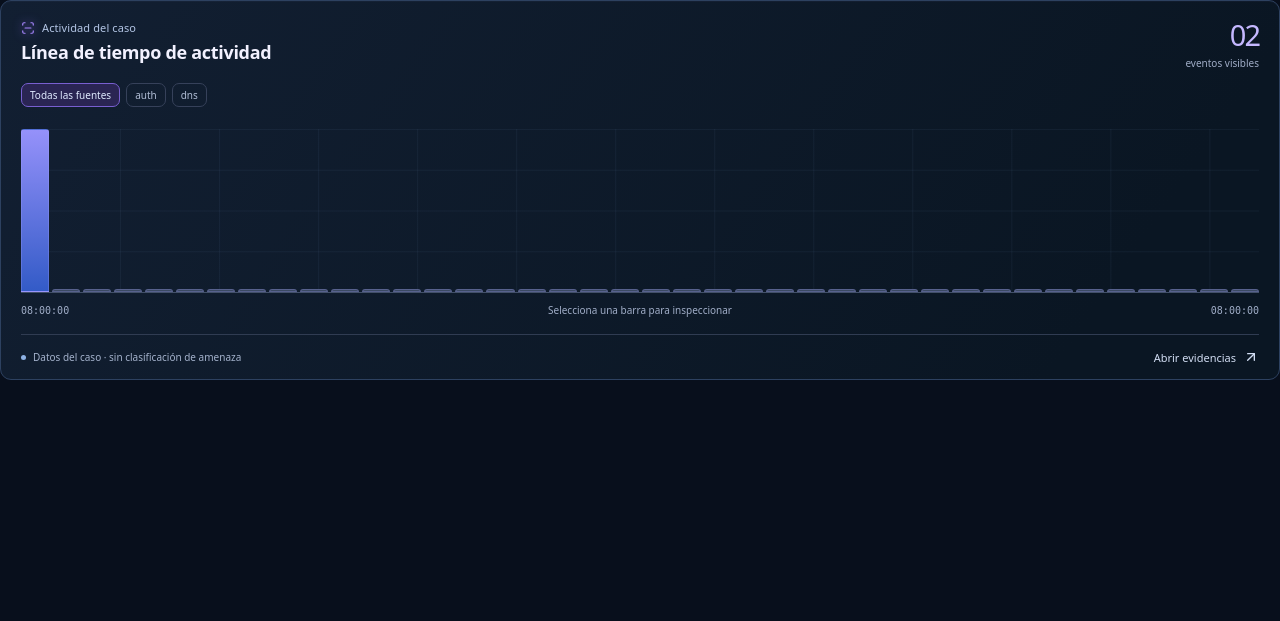
Scenario: SignalMap › groups simultaneous events and clears selection when filtering by source
Click the button named ": 2 eventos". click: (35, 210)
box: x1=21 y1=129 x2=49 y2=292
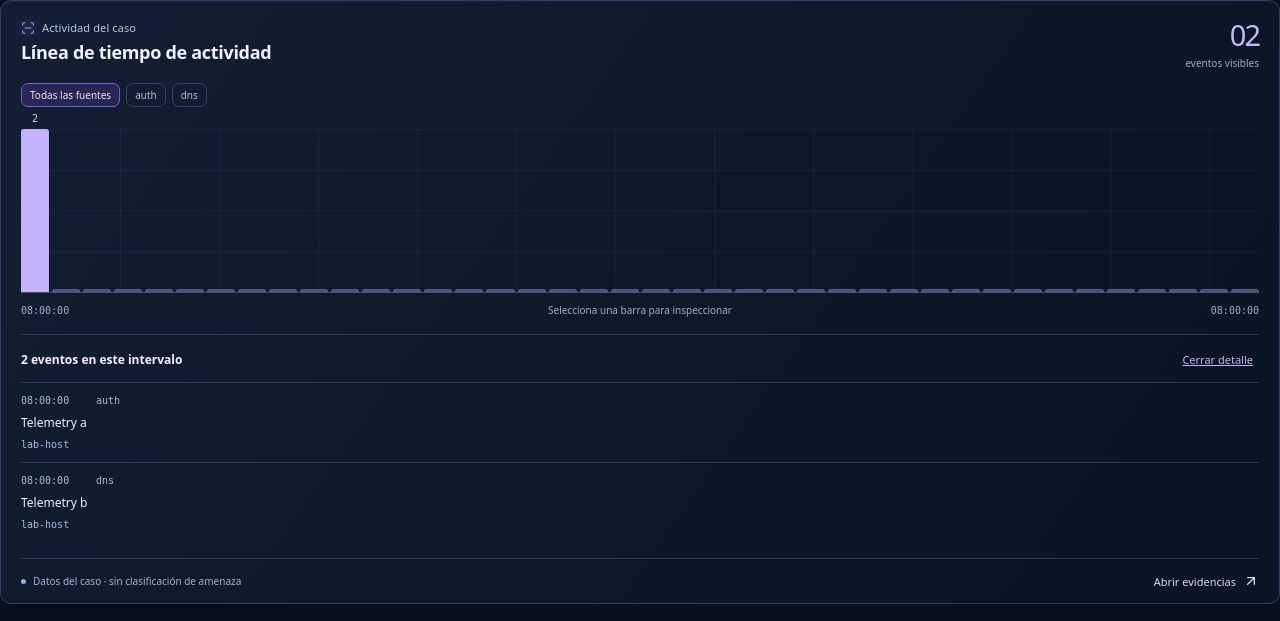
Result: the text "Telemetry a" is shown at x1=21 y1=414 x2=87 y2=431
Result: the text "Telemetry b" is shown at x1=21 y1=494 x2=87 y2=511
Click the button "dns". click: (189, 95)
box: x1=172 y1=83 x2=207 y2=107
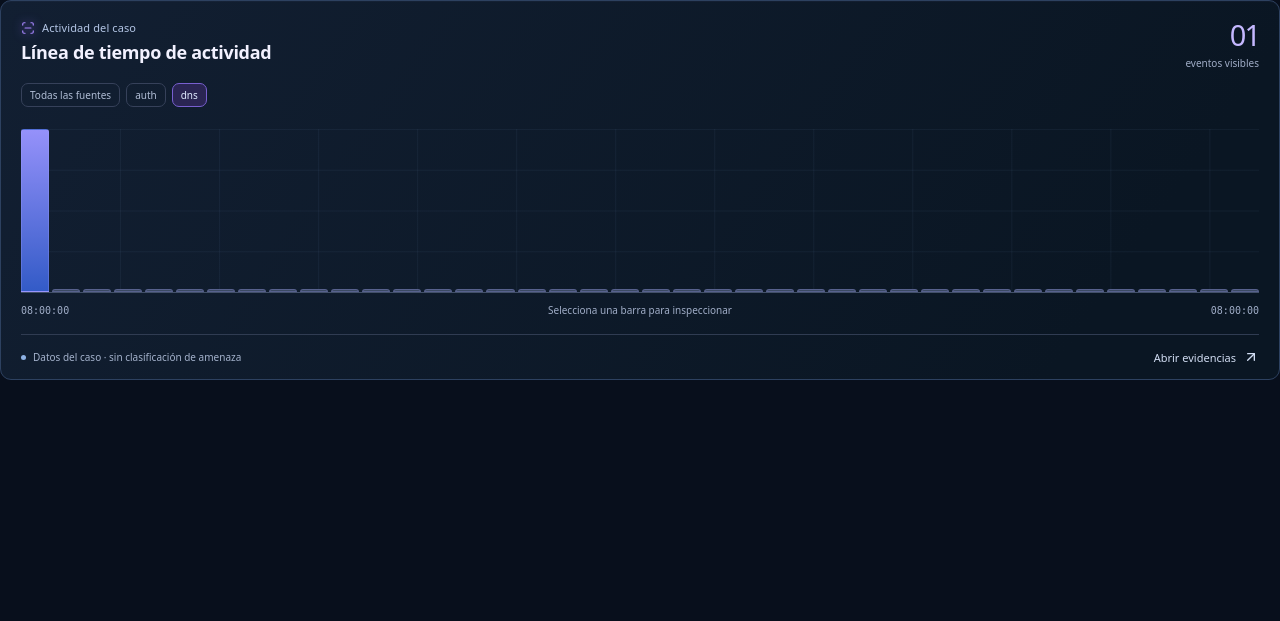
Result: the text "Telemetry a" is gone
Click the button named ": 1 evento". click: (35, 210)
box: x1=21 y1=129 x2=49 y2=292
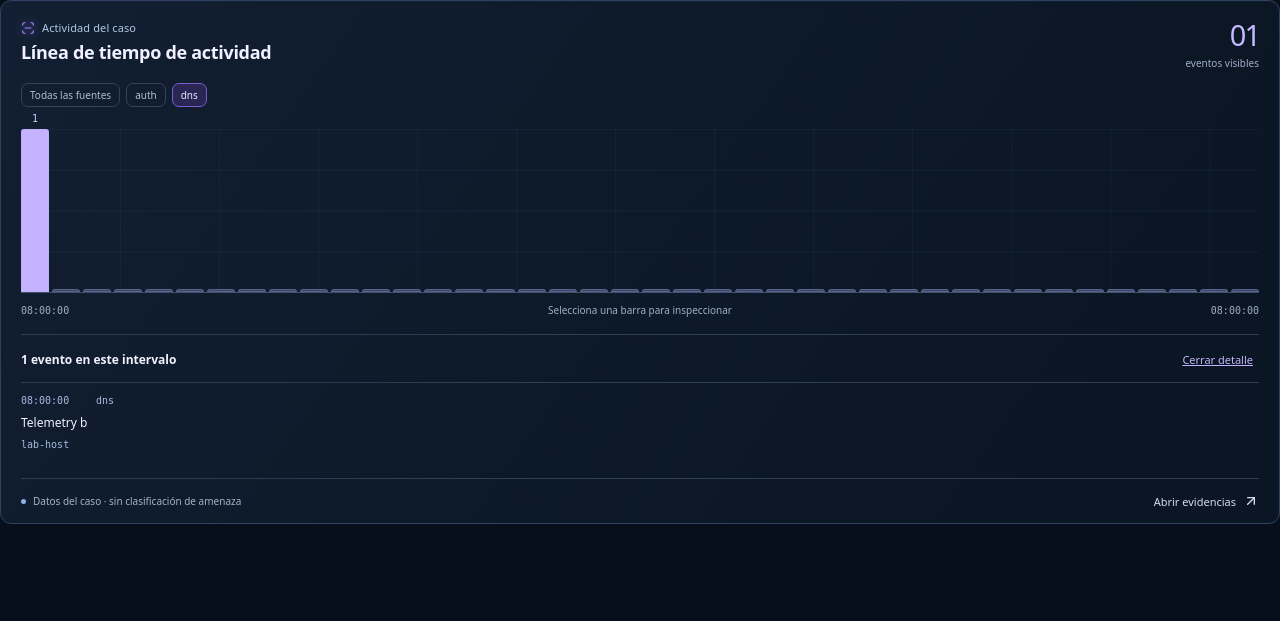
Expected: the text "Telemetry a" is not shown
Result: the text "Telemetry b" is shown at x1=21 y1=414 x2=87 y2=431
Click the button "Cerrar detalle". click: (1218, 360)
box: x1=1176 y1=351 x2=1259 y2=368
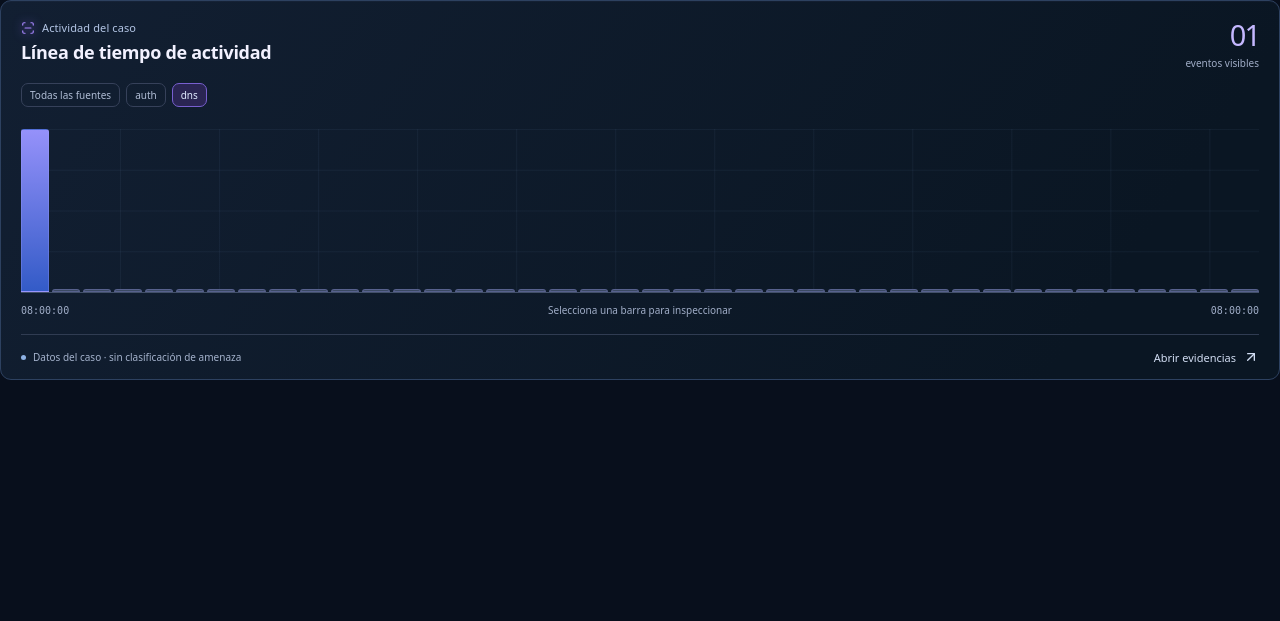
Result: the text "Telemetry b" is gone
